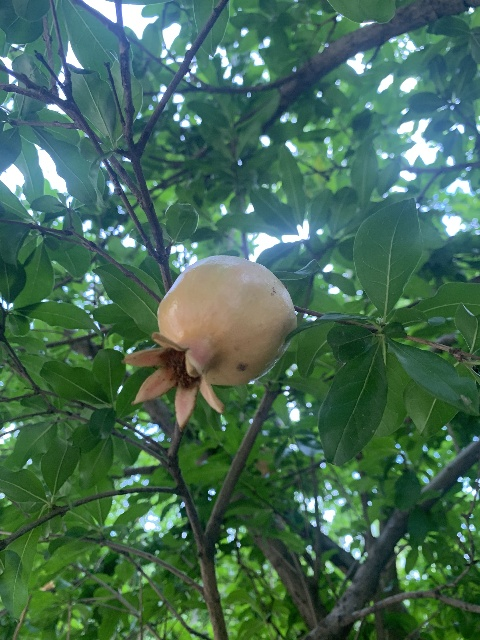mid-growth: (121, 255, 295, 429)
